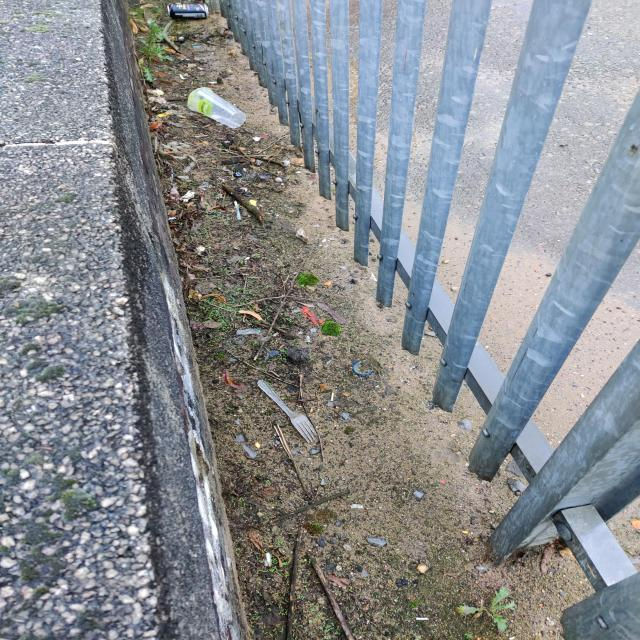litter: (256, 379, 320, 443), (182, 85, 247, 132)
